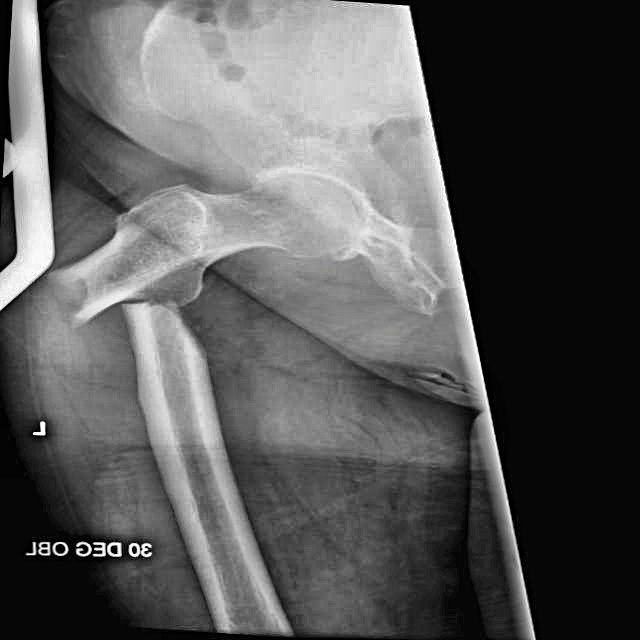Transverse: (33, 240, 221, 375)
